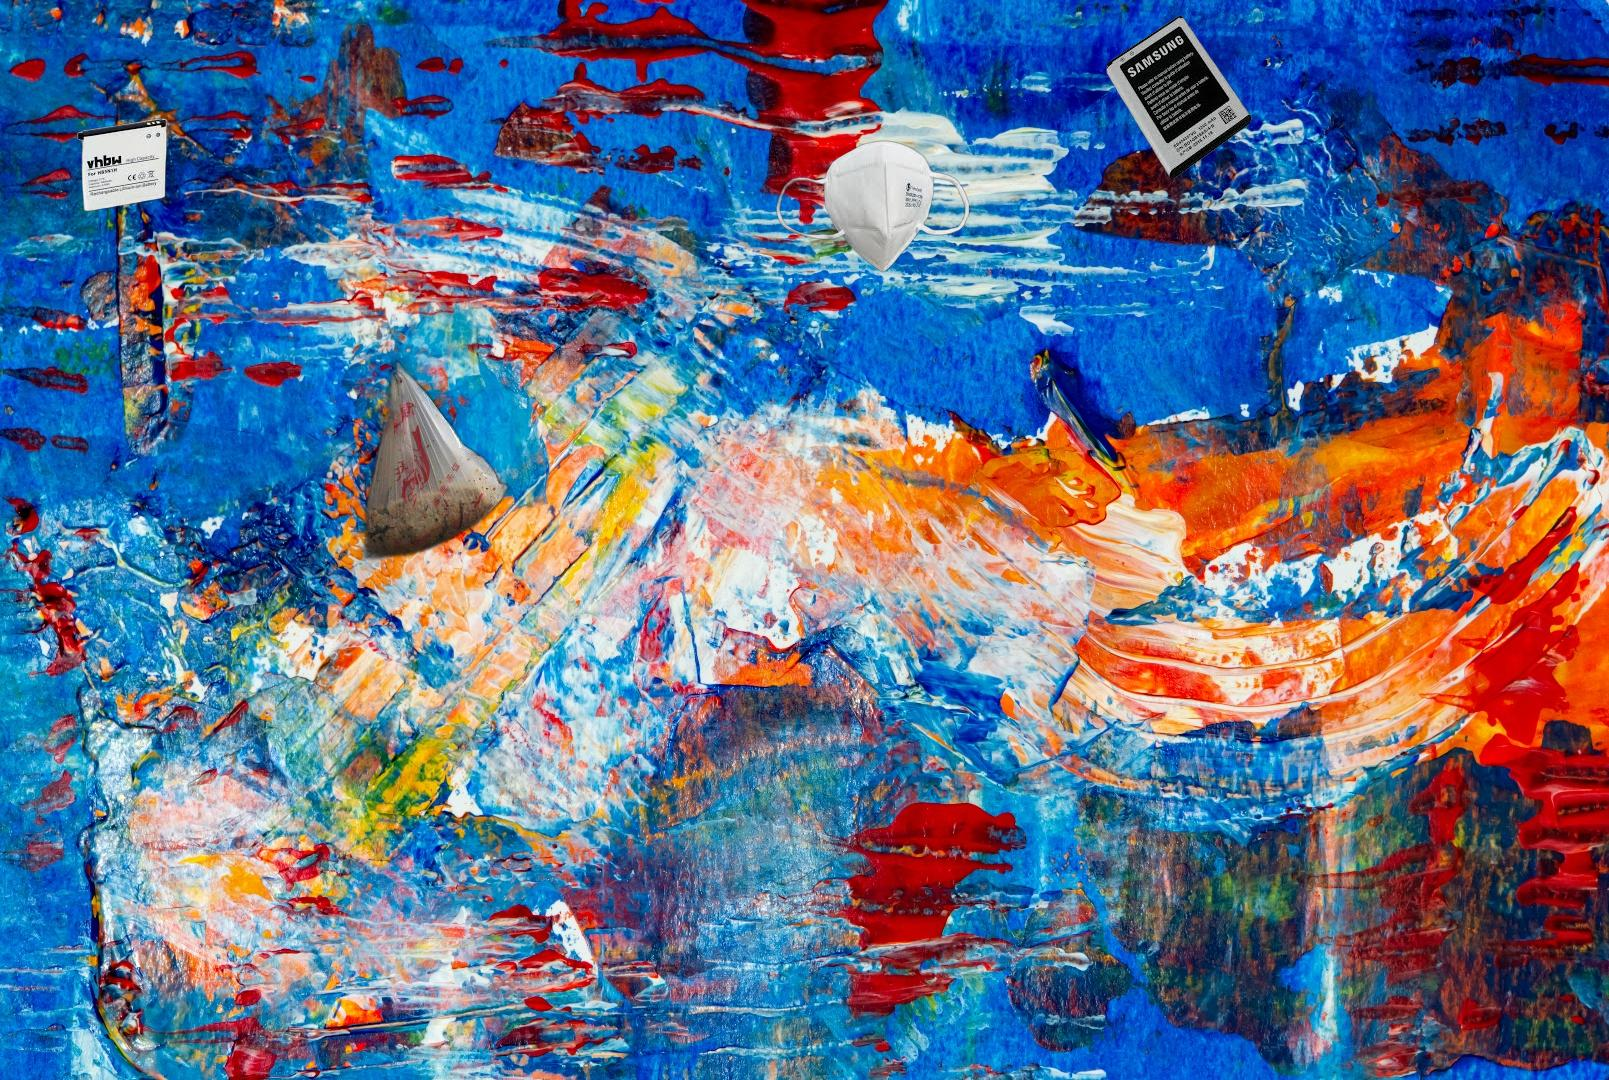battery: (1103, 13, 1253, 182), (74, 116, 170, 215)
biological: (354, 323, 516, 565)
penholder: (1587, 1078, 1609, 1080)
trash: (773, 137, 971, 275)
